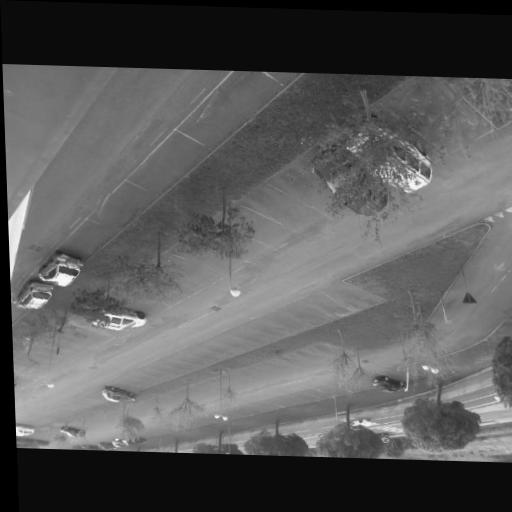busy: (311, 147, 388, 216), (370, 145, 433, 191), (39, 250, 87, 287), (93, 304, 150, 331), (13, 278, 62, 309), (100, 385, 140, 403), (370, 375, 407, 393), (62, 427, 87, 439), (17, 424, 37, 436), (112, 437, 130, 447)
free: (399, 82, 464, 137), (210, 88, 258, 124), (94, 189, 140, 224), (292, 171, 333, 205), (463, 255, 502, 290), (198, 243, 231, 275), (244, 216, 279, 245), (147, 155, 184, 181), (266, 196, 306, 219), (69, 228, 107, 250), (331, 281, 364, 304), (313, 291, 339, 314), (170, 261, 196, 280), (234, 241, 259, 259), (274, 312, 298, 330), (294, 307, 318, 324), (242, 326, 262, 342), (258, 322, 278, 333), (296, 392, 311, 404), (305, 345, 317, 358), (312, 389, 324, 400), (332, 388, 347, 396), (278, 399, 290, 409), (294, 353, 306, 362), (318, 344, 331, 352), (274, 363, 285, 371), (286, 359, 295, 367)
